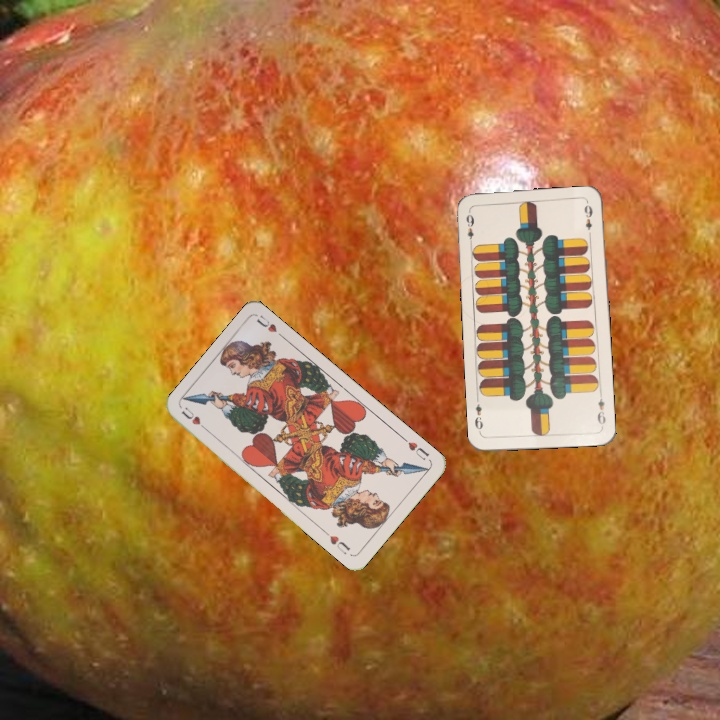E9: (593, 389, 608, 429), (462, 207, 477, 247)
HU: (177, 403, 211, 435), (399, 433, 432, 463)
